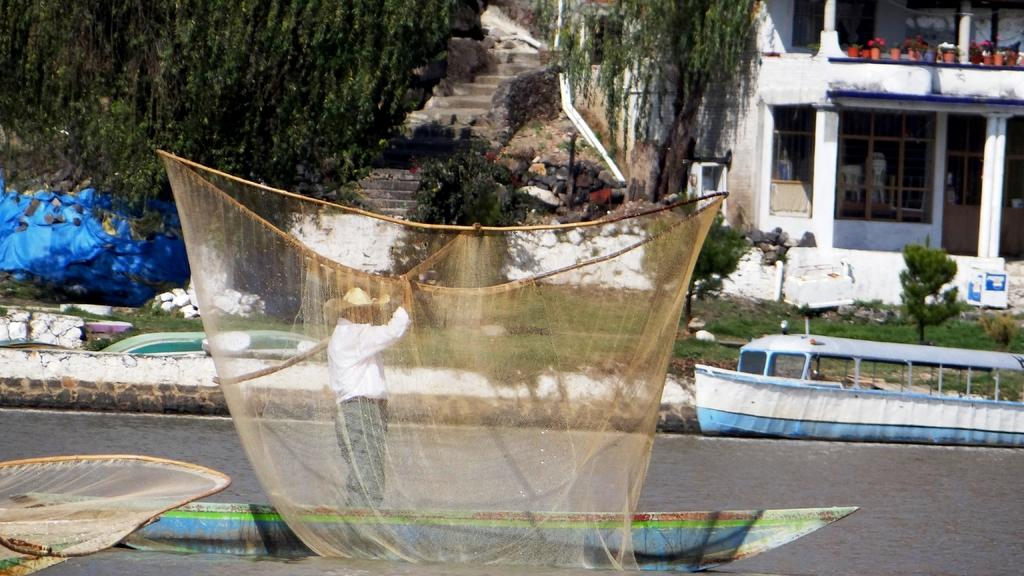PassengerShip: (668, 321, 1024, 451)
